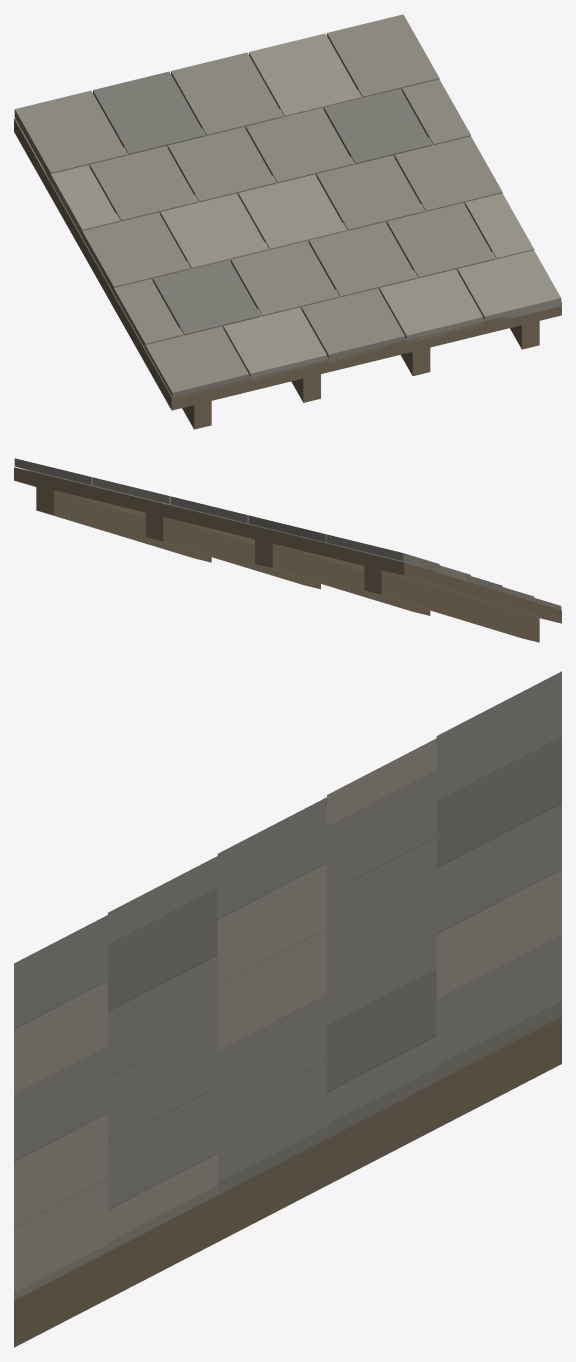
Rendered from env_roof_shingle_slope_a.glb.
The picture shows the model from 3 angles, top to bottom: view 1: azimuth 30°, elevation 25°; view 2: azimuth 150°, elevation 25°; view 3: azimuth 270°, elevation 25°; orthographic projection. The views are drawn at different scales.
Visible parts, largest first — view 1: material_4, material_5, material_6, material_2; view 2: material_2, material_4, material_5, material_6; view 3: material_4, material_5, material_2, material_6.
Part boxes in pixels (bbox=[...]): material_4: bbox=[14, 14, 502, 399]; material_5: bbox=[46, 33, 561, 381]; material_6: bbox=[93, 71, 431, 335]; material_2: bbox=[14, 118, 561, 429]; material_2: bbox=[14, 467, 561, 642]; material_4: bbox=[14, 458, 561, 609]; material_5: bbox=[93, 477, 470, 581]; material_6: bbox=[249, 515, 341, 547]; material_4: bbox=[14, 671, 561, 1210]; material_5: bbox=[14, 738, 561, 1300]; material_2: bbox=[14, 1015, 561, 1347]; material_6: bbox=[108, 737, 561, 1092].
Size of the model in its own units: 2 by 1.03 by 1.4.
